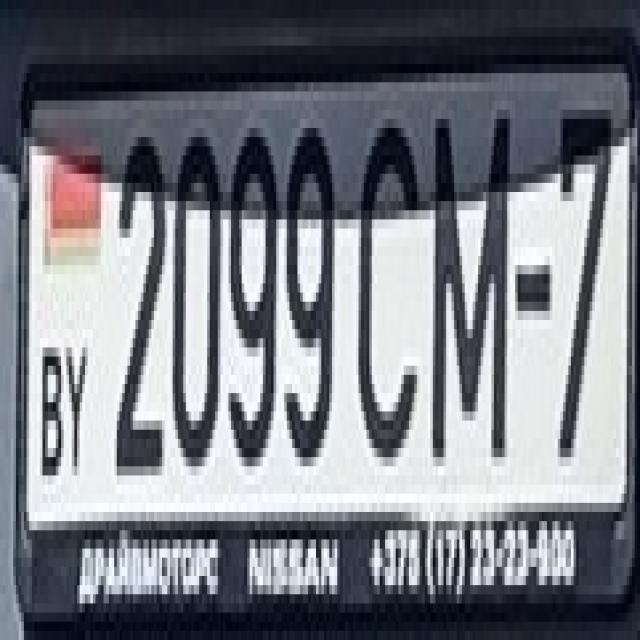0: (165, 119, 218, 458)
2: (112, 119, 164, 466)
7: (542, 91, 622, 466)
9: (274, 100, 338, 467), (218, 100, 279, 467)
C: (348, 100, 417, 467)
M: (417, 73, 518, 457)
